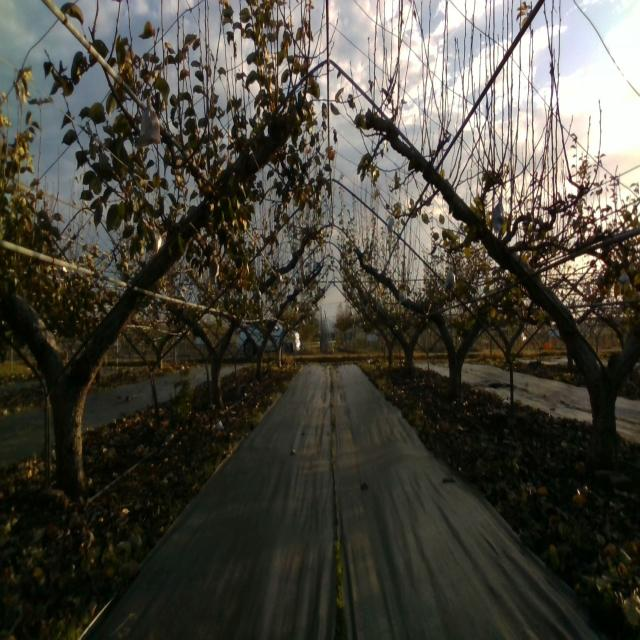pearbags: (140, 95, 161, 148), (492, 193, 504, 232), (148, 226, 163, 254), (446, 267, 456, 291)
